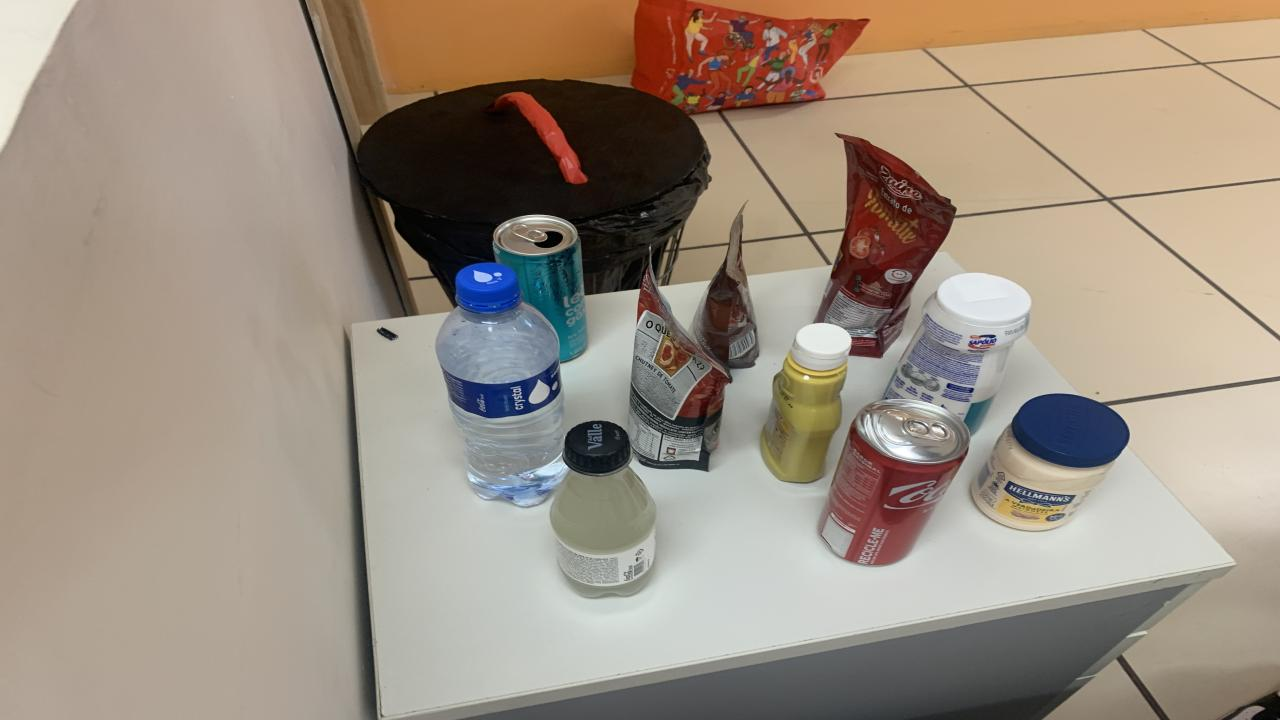Cleaner-Cleanup_Items: (885, 274, 1030, 433)
Coffee-Pantry_Items: (690, 204, 760, 368)
Coke-Drinks: (818, 398, 970, 566)
Mayonnaise-Pantry_Items: (970, 394, 1130, 531)
Mustard-Pantry_Items: (760, 322, 850, 482)
Soda-Drinks: (550, 422, 655, 598)
Tea-Drinks: (492, 214, 588, 362)
Tomato_Sauce-Pantry_Items: (818, 135, 955, 358), (628, 268, 730, 471)
Water_Bottle-Drinks: (435, 262, 568, 506)
